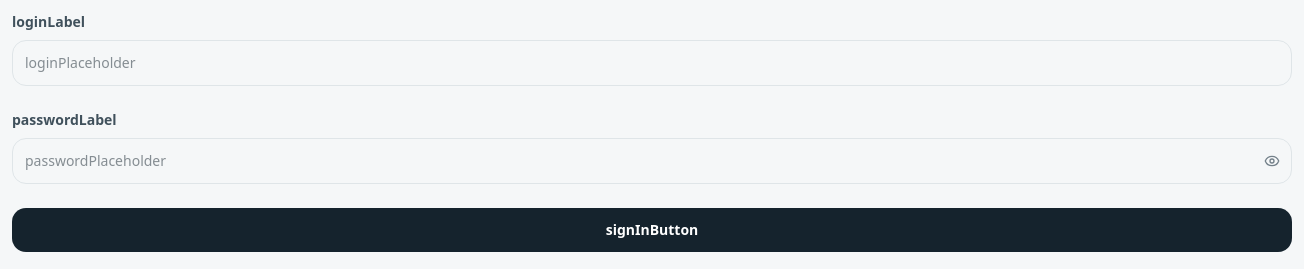
Login Form › shows and hides password field correctly
Click the button with test id "password-button" at (1272, 161), box [1252,138,1292,184]
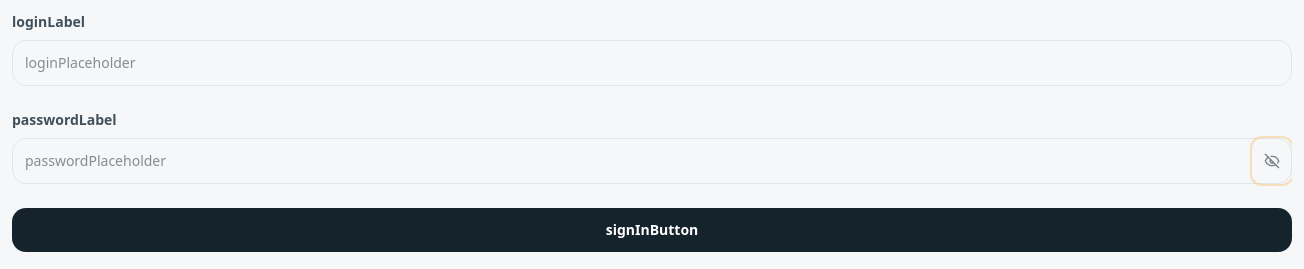
Now the icon with test id "eye-off-icon" is shown, box [1264,153,1280,169]
